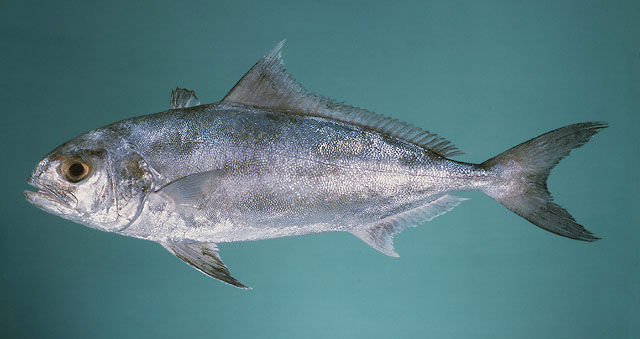fish: (22, 37, 612, 291)
